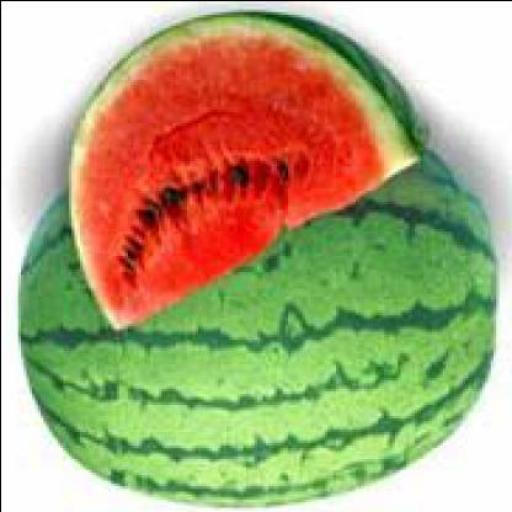biodegradable: (20, 116, 494, 509), (68, 14, 433, 334)
